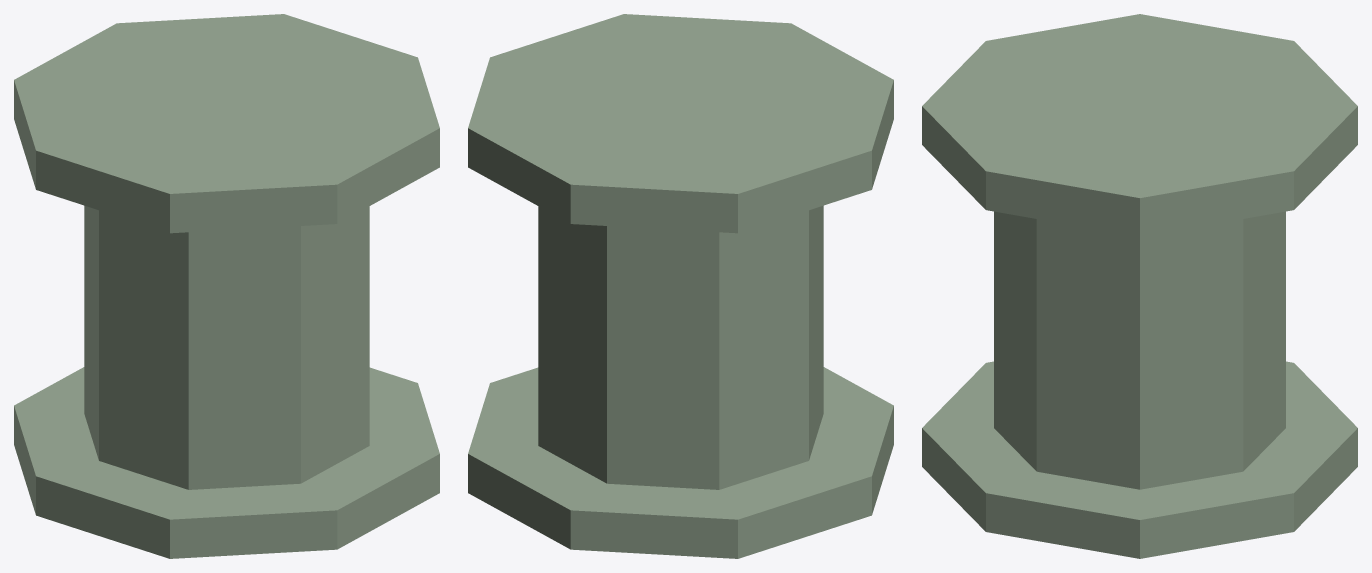
Rendered from spool_01.fbx.
3 views of the same model, side by side, from view 1: azimuth 30°, elevation 25°; view 2: azimuth 150°, elevation 25°; view 3: azimuth 270°, elevation 25° (orthographic).
Parts seen in each view (by area): view 1: spool_01; view 2: spool_01; view 3: spool_01.
Part boxes in pixels (x1=…): spool_01: x1=14, y1=14, x2=439, y2=558; spool_01: x1=468, y1=14, x2=893, y2=558; spool_01: x1=922, y1=14, x2=1357, y2=558.
Size of the model in its own units: 2.32 by 2.12 by 2.32.
